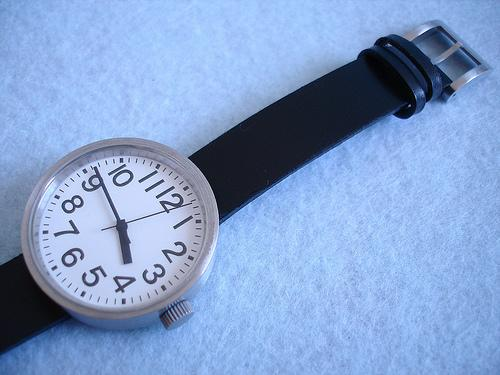watch: (9, 134, 241, 346)
